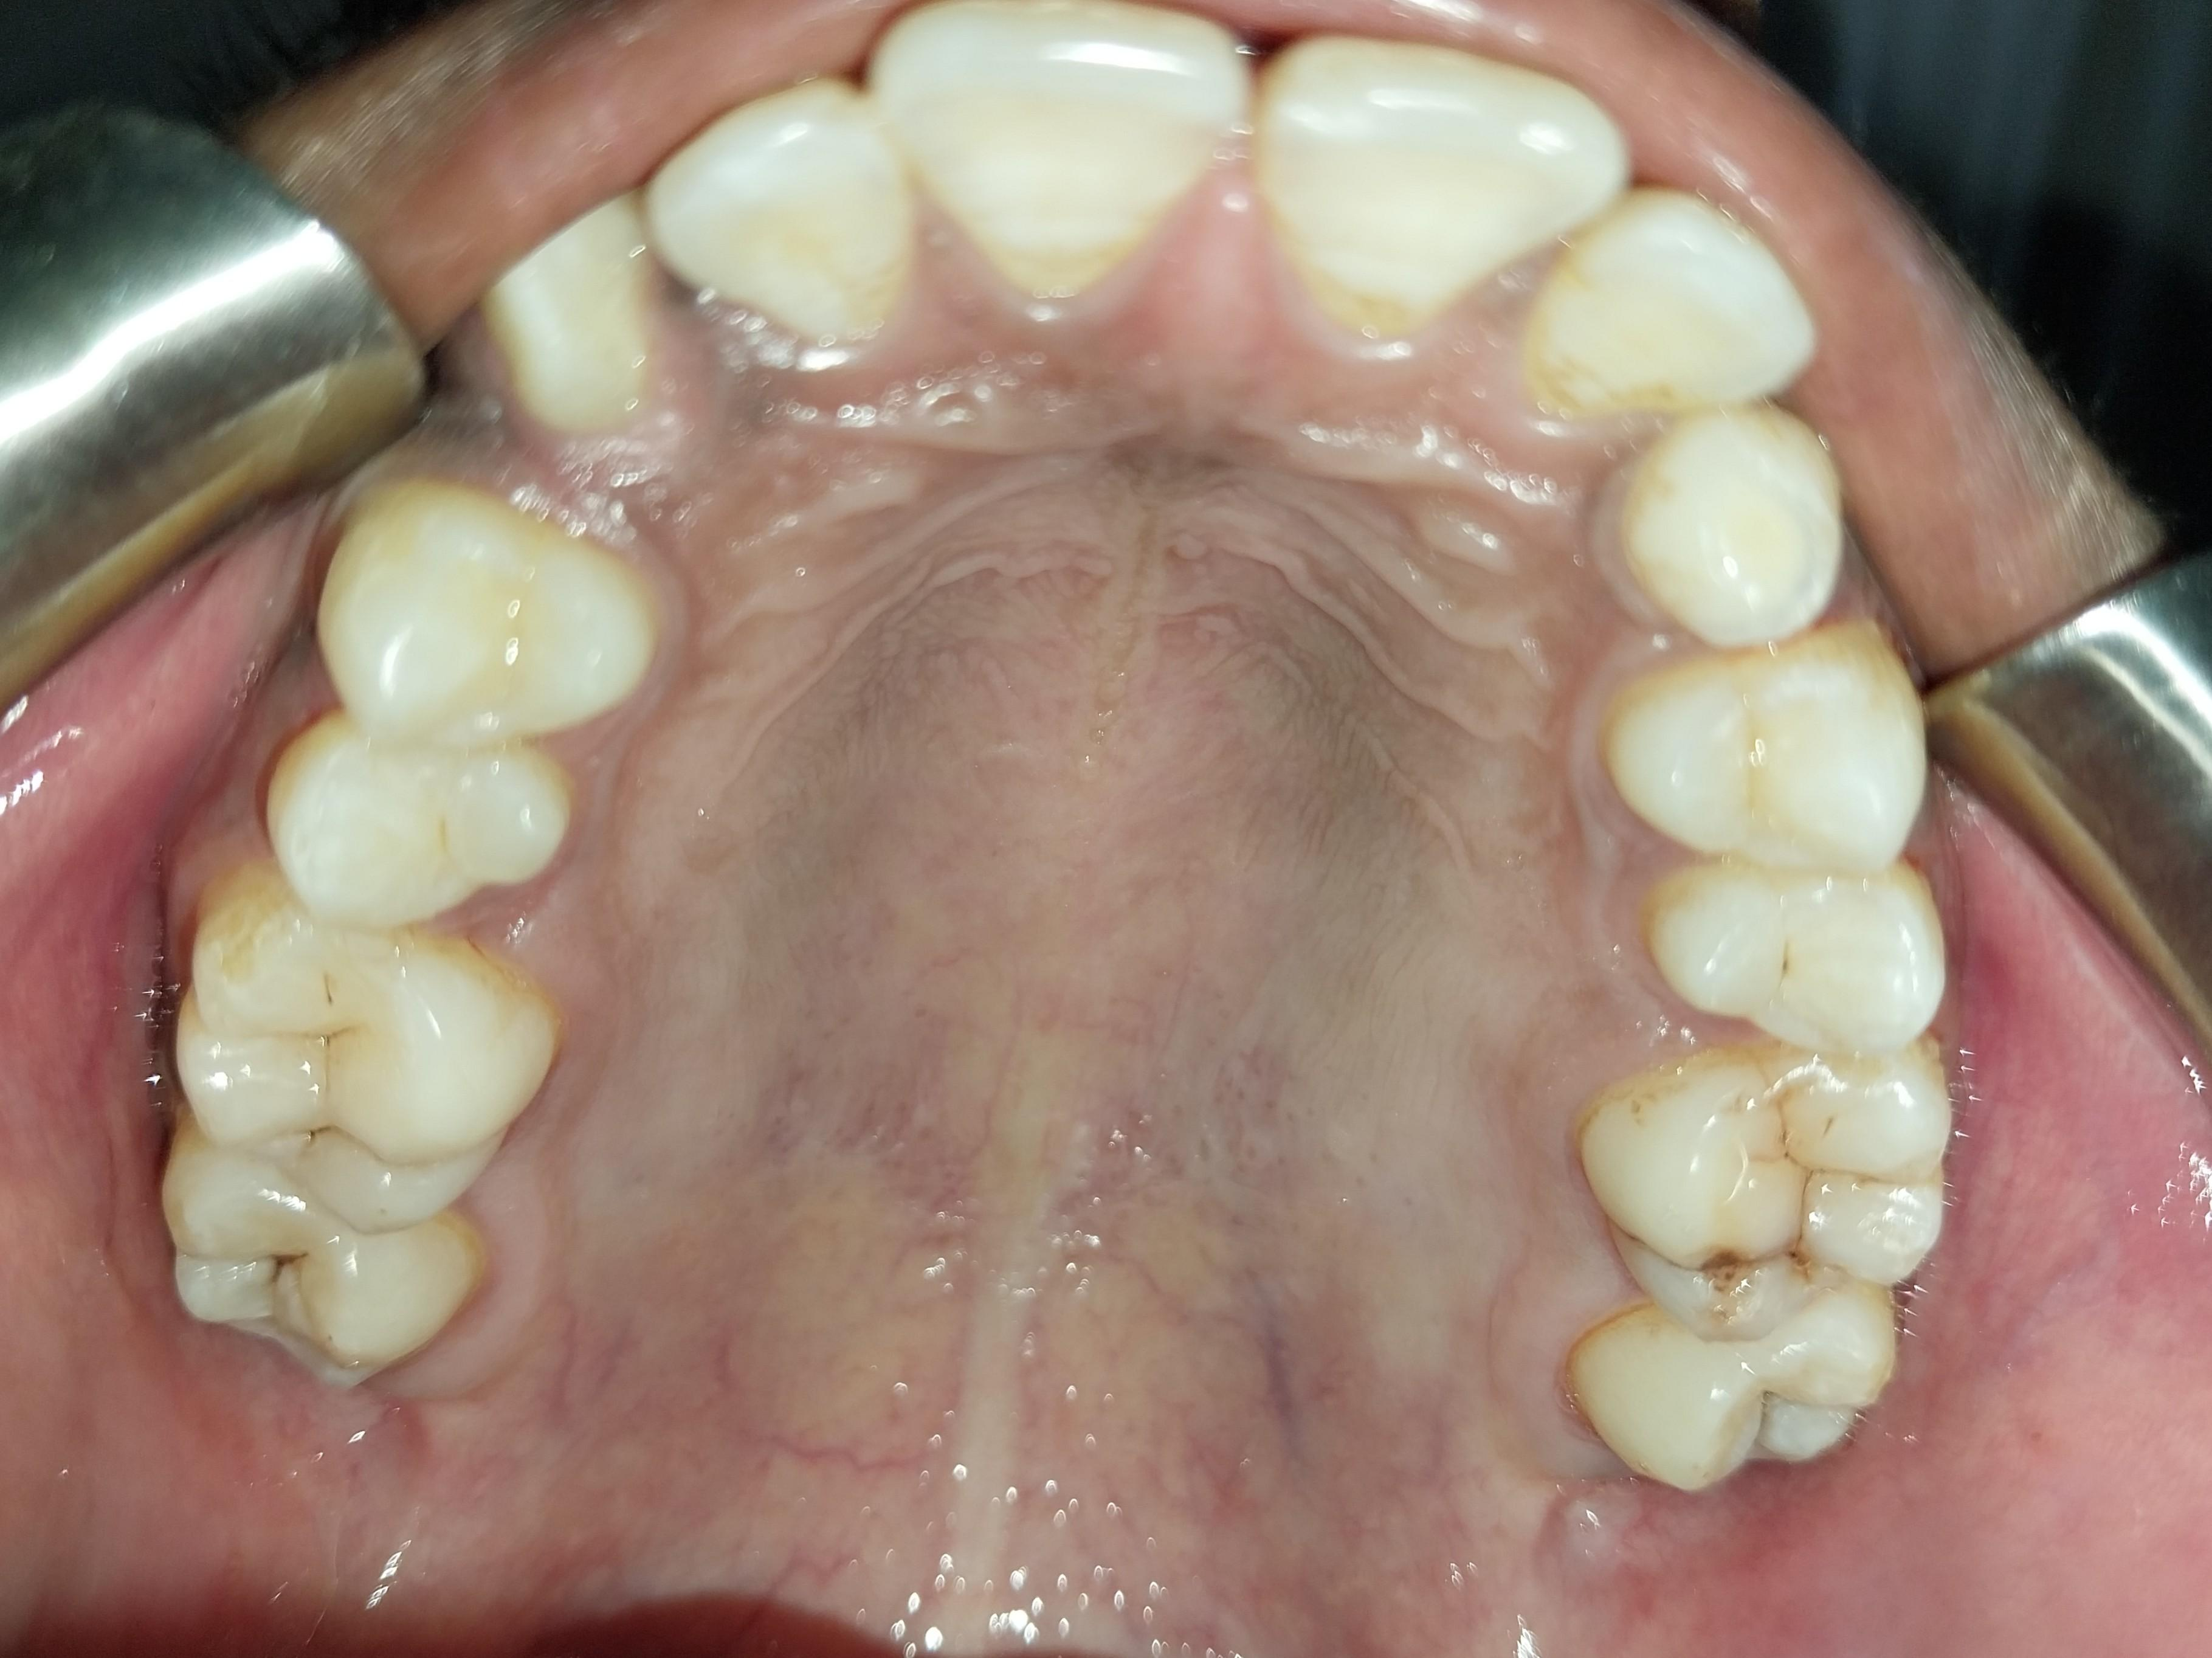D: (179, 901, 539, 1225), (1612, 1037, 1957, 1353), (142, 1147, 483, 1394), (1577, 1289, 1907, 1491)
